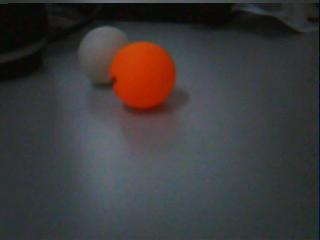oball: (109, 40, 176, 109)
